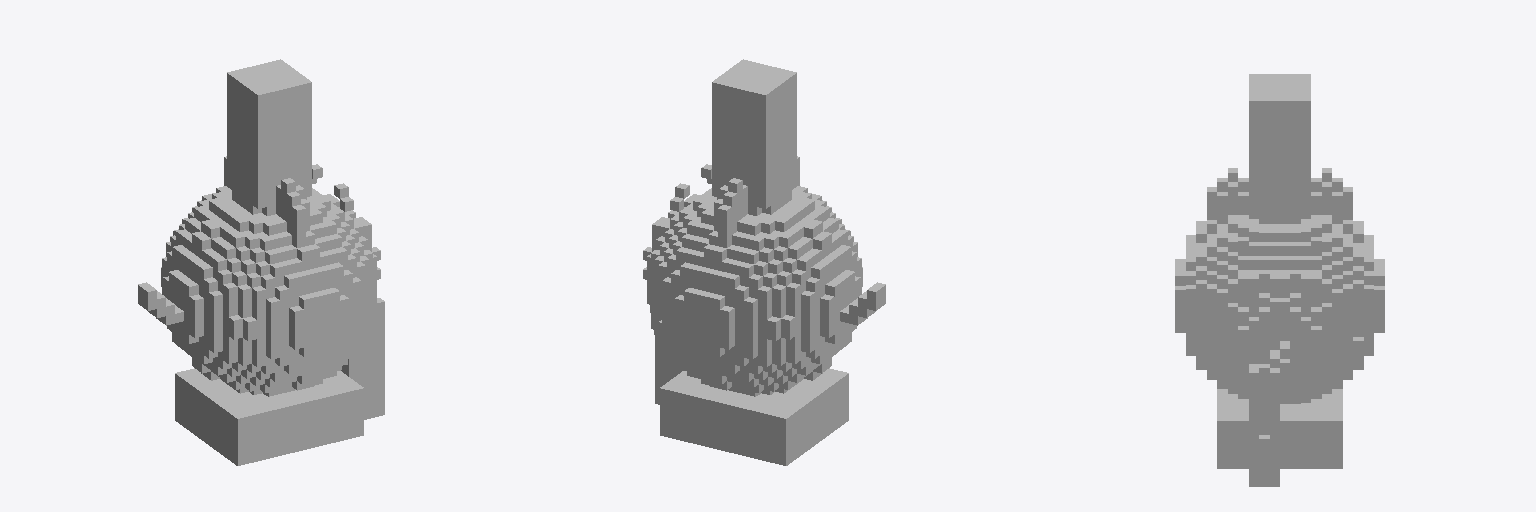
File: vrjam01_kittybuilding_02.obj
3 views of the same model, side by side, from view 1: azimuth 30°, elevation 25°; view 2: azimuth 150°, elevation 25°; view 3: azimuth 270°, elevation 25° (orthographic).
Size of the model in its own units: 25 by 37 by 20.